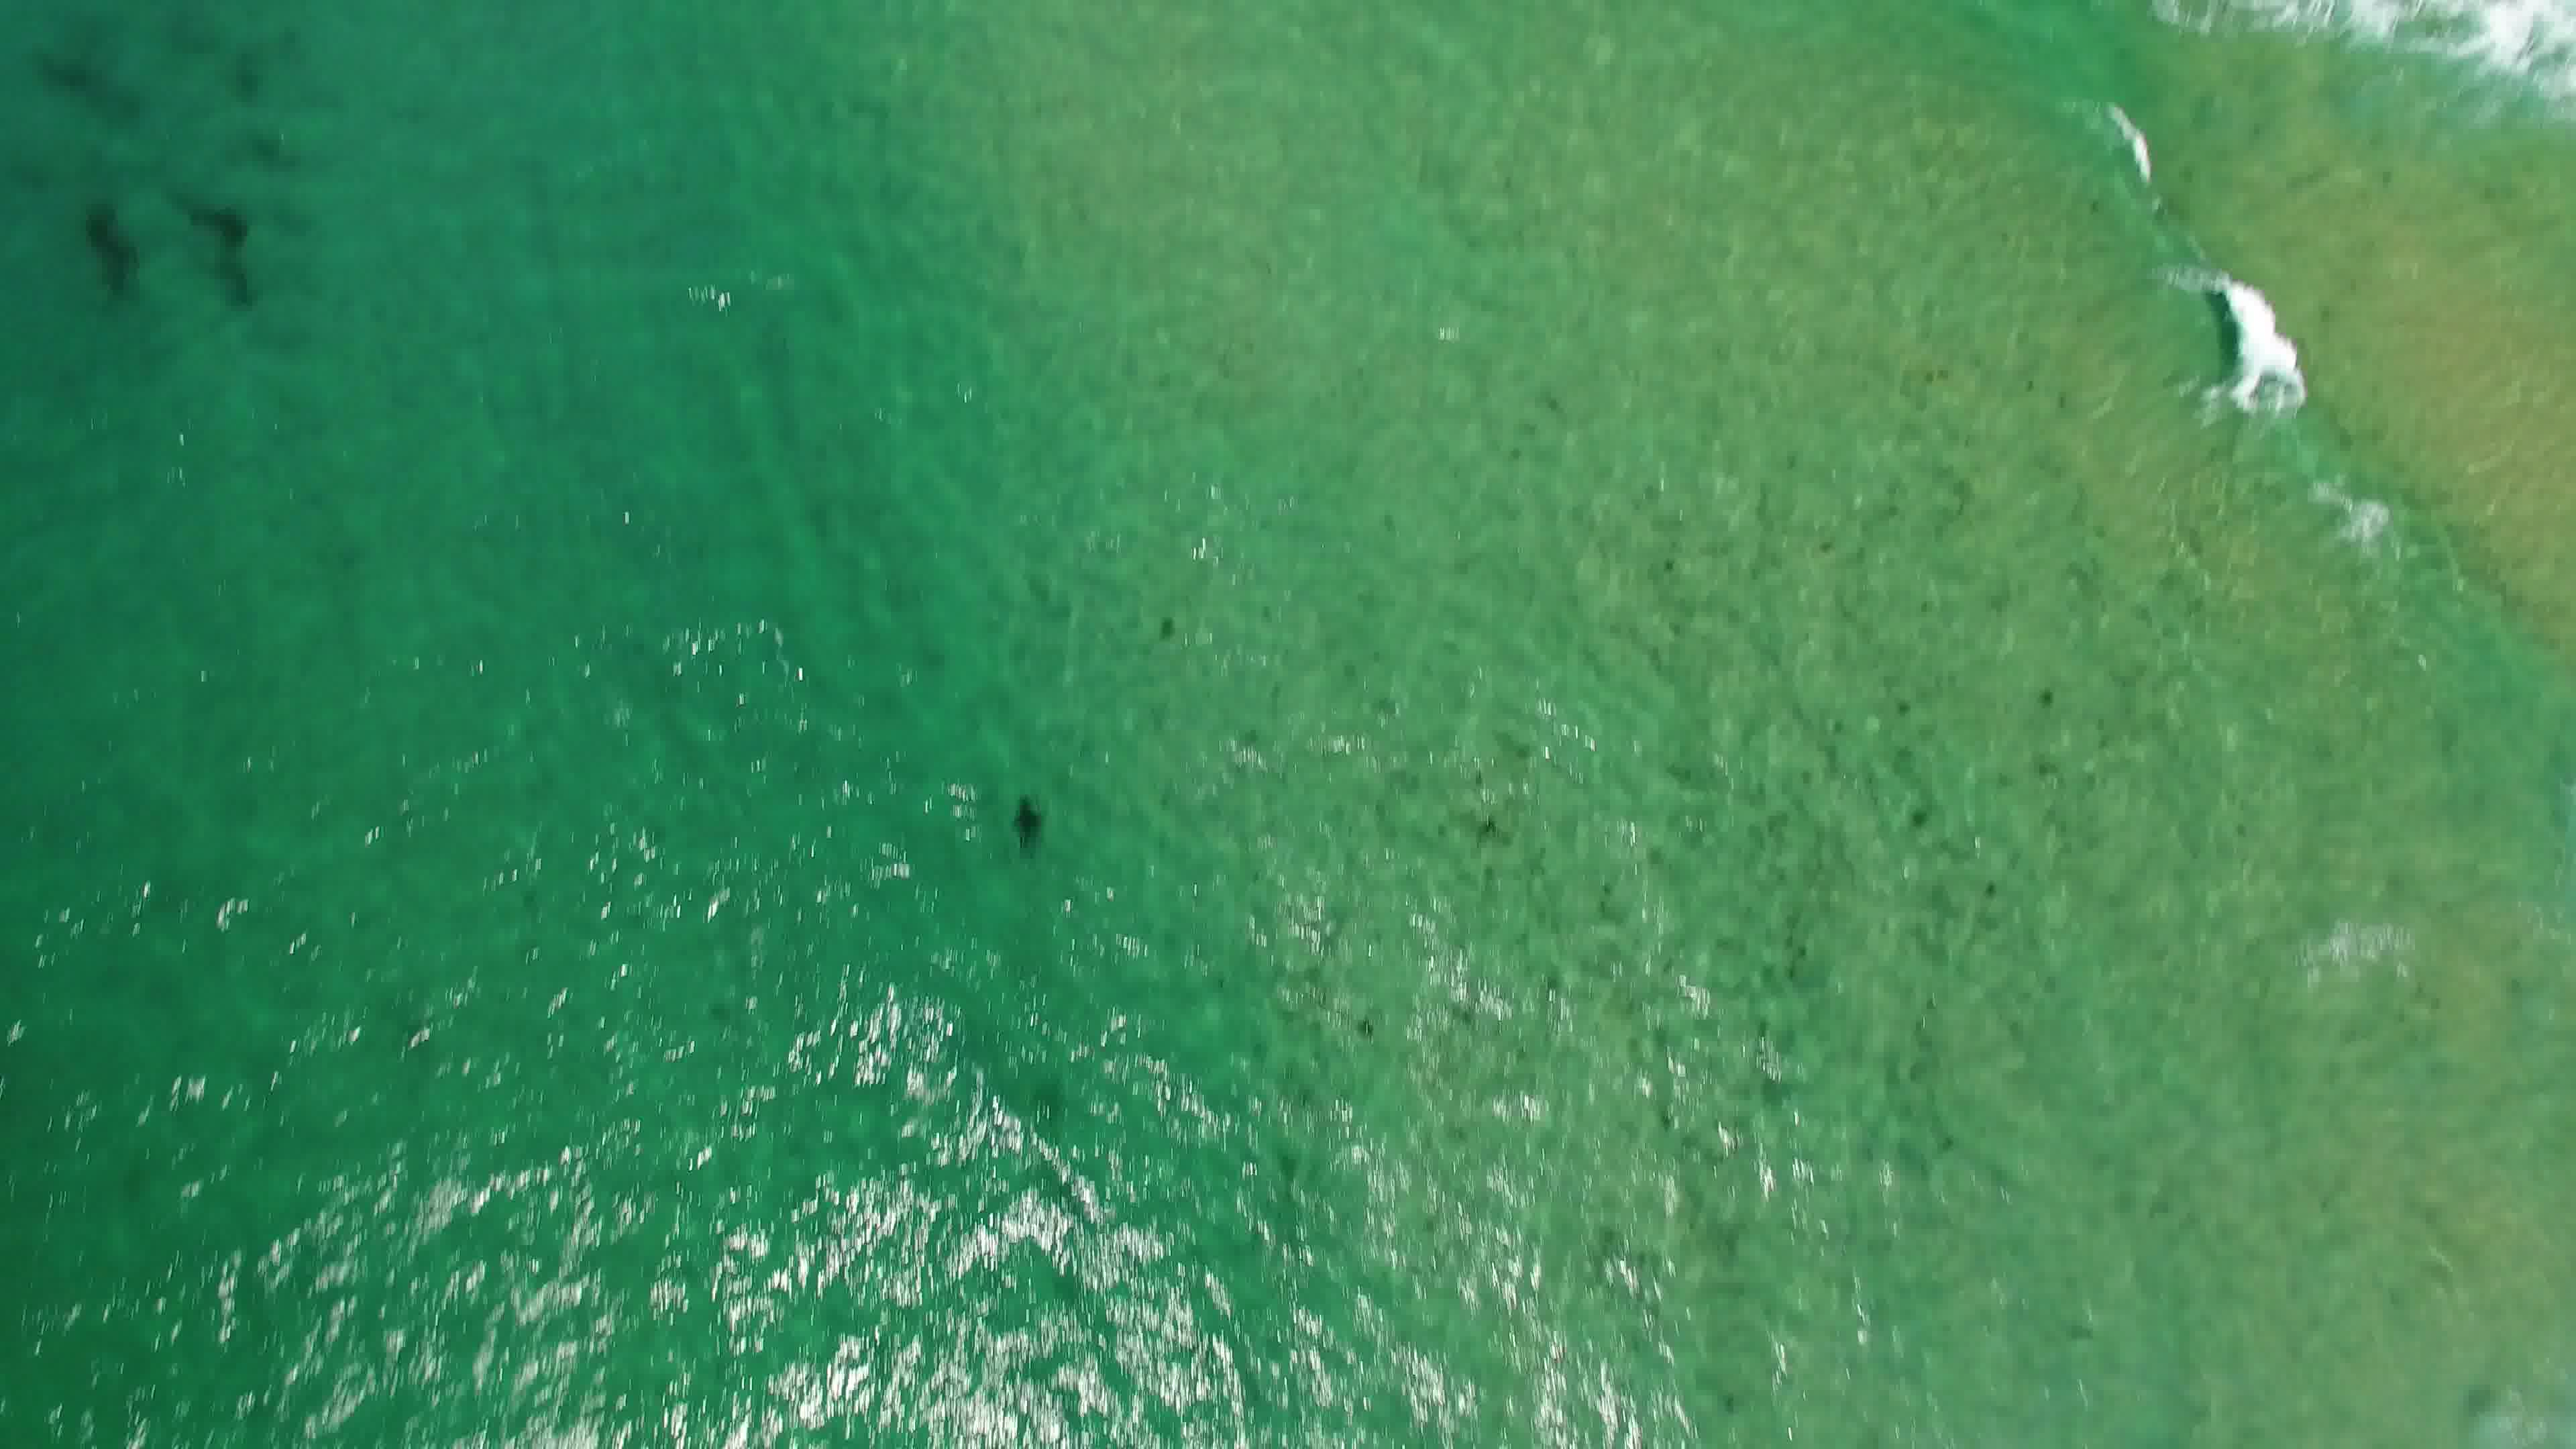shark: (1005, 789, 1049, 856)
